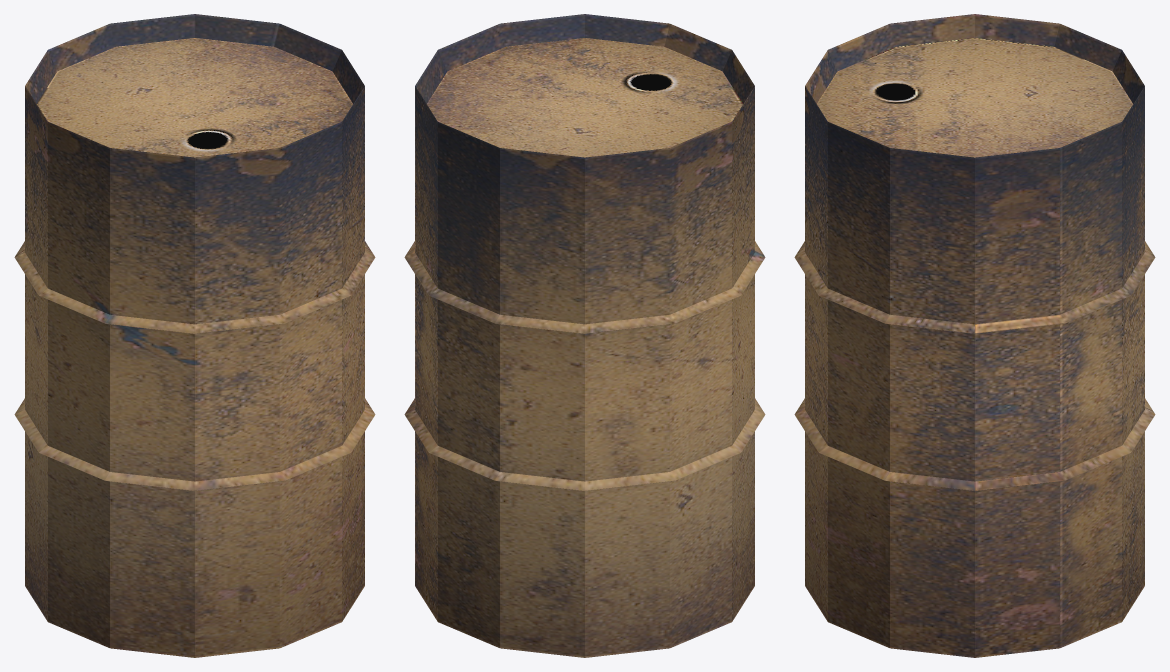
Rendered from barrel2.fbx.
The picture shows the model from 3 angles, left to right: view 1: azimuth 30°, elevation 25°; view 2: azimuth 150°, elevation 25°; view 3: azimuth 270°, elevation 25°; orthographic projection.
Parts seen in each view (by area): view 1: barrel2_Layer1; view 2: barrel2_Layer1; view 3: barrel2_Layer1.
Part boxes in pixels (left/top/right/bottom): barrel2_Layer1: left=14, top=14, right=375, bottom=657; barrel2_Layer1: left=404, top=14, right=765, bottom=657; barrel2_Layer1: left=794, top=14, right=1155, bottom=657.
Bounding box in the file's own units: 34 × 52 × 34.
1 material, 1 textured.
